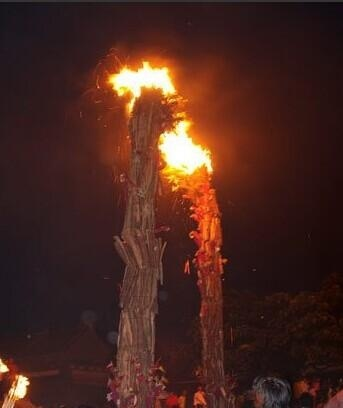fire: (105, 56, 176, 112), (158, 116, 213, 174), (0, 357, 31, 407)
